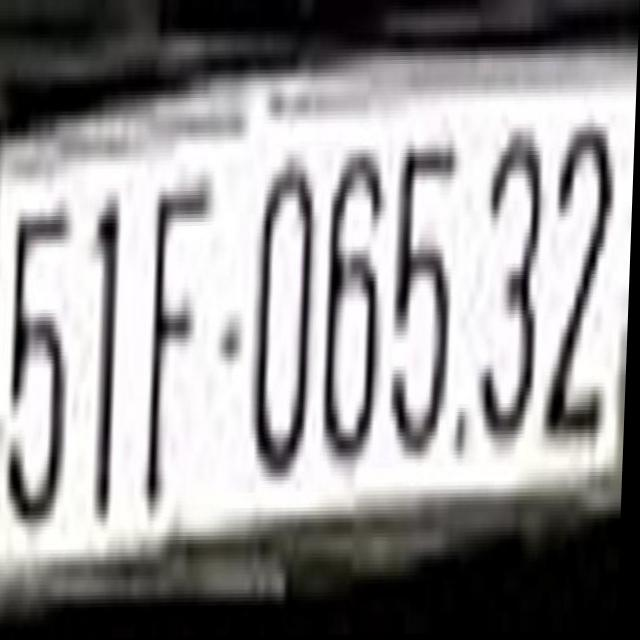0: (251, 143, 318, 486)
1: (85, 184, 126, 527)
2: (543, 113, 624, 459)
3: (476, 110, 550, 452)
5: (4, 181, 76, 520), (390, 119, 460, 457)
6: (324, 135, 387, 454)
F: (143, 179, 213, 518)
